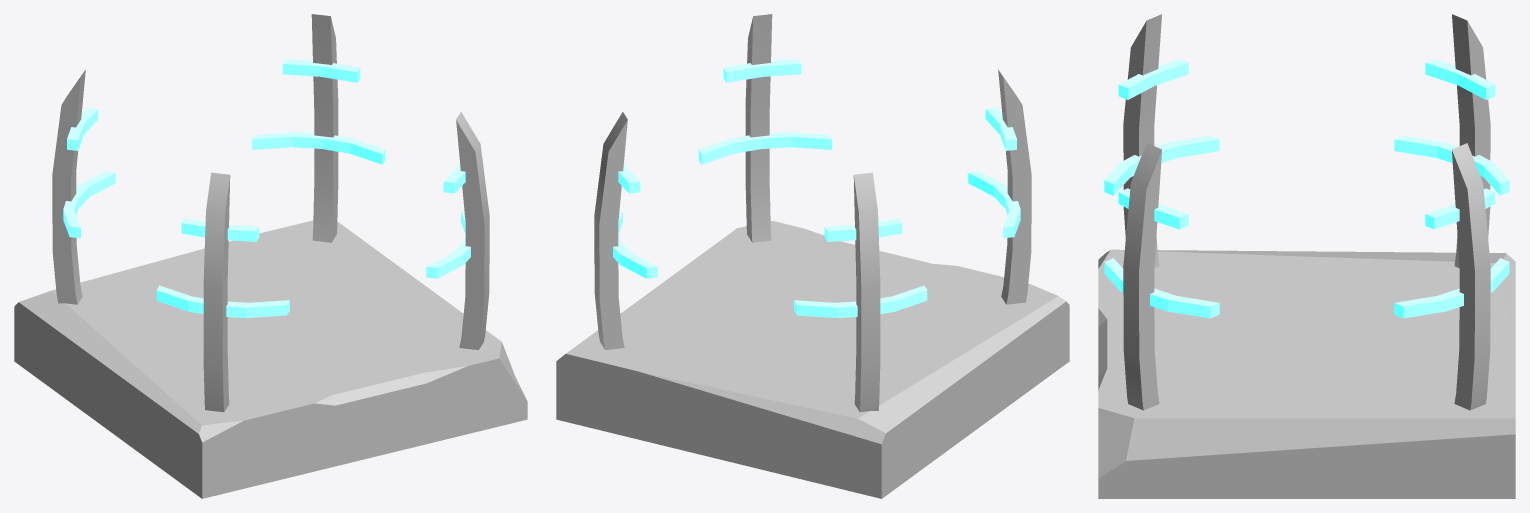
The model's file is portal.glb.
3 views of the same model, side by side, from view 1: azimuth 30°, elevation 25°; view 2: azimuth 150°, elevation 25°; view 3: azimuth 270°, elevation 25° (orthographic). The views are drawn at different scales.
Parts seen in each view (by area): view 1: tile, Cube; view 2: tile, Cube; view 3: tile, Cube.
Boxes of the visible parts, left/top/right/bottom form: tile: left=14, top=220, right=527, bottom=498; Cube: left=52, top=14, right=489, bottom=412; tile: left=556, top=221, right=1069, bottom=498; Cube: left=594, top=14, right=1031, bottom=412; tile: left=1098, top=249, right=1515, bottom=498; Cube: left=1104, top=14, right=1509, bottom=410.
Bounding box in the file's own units: 1 × 0.8692 × 1.
